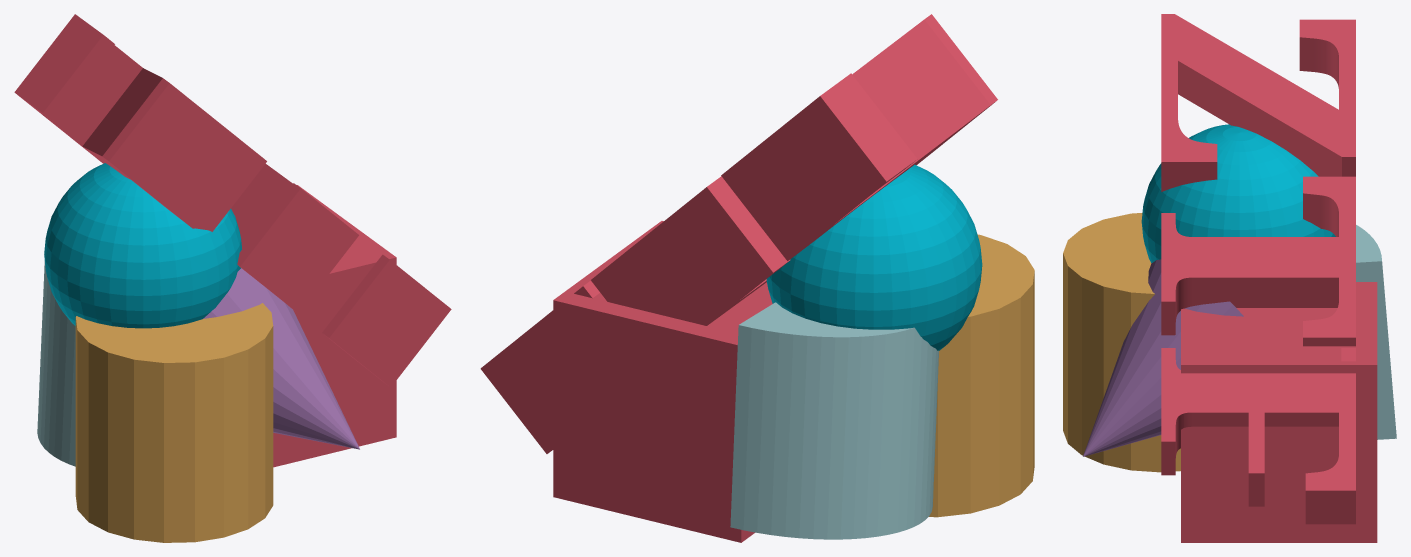
3 renders of one model, left to right at view 1: azimuth 30°, elevation 25°; view 2: azimuth 150°, elevation 25°; view 3: azimuth 270°, elevation 25°, orthographic. The views are drawn at different scales.
Parts seen in each view (by area): view 1: Mesh_Mesh_head_geo.001_lambert2SG.001; view 2: Mesh_Mesh_head_geo.001_lambert2SG.001; view 3: Mesh_Mesh_head_geo.001_lambert2SG.001.
Part boxes in pixels (x1,y1,x2,y2): Mesh_Mesh_head_geo.001_lambert2SG.001: [14, 14, 451, 542]; Mesh_Mesh_head_geo.001_lambert2SG.001: [480, 14, 1034, 542]; Mesh_Mesh_head_geo.001_lambert2SG.001: [1063, 14, 1396, 542].
Bounding box in the file's own units: 46 × 46.61 × 34.
